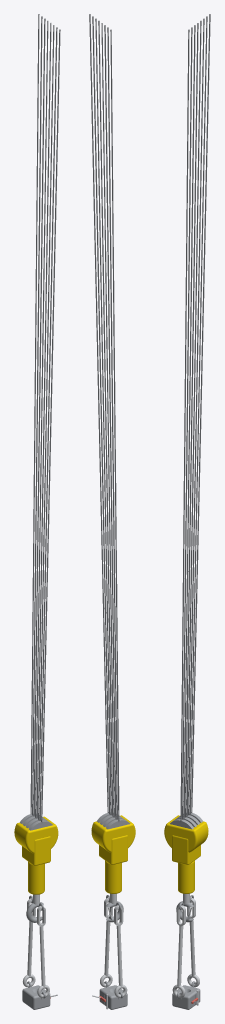
Rendered from sk575_aparejo.glb.
3 views of the same model, side by side, from view 1: azimuth 30°, elevation 25°; view 2: azimuth 210°, elevation 25°; view 3: azimuth 330°, elevation 25° (orthographic).
Parts seen in each view (by area): view 1: sk575_aparejo_cable, sk575_aparejo_amarillo, sk575_aparejo_acero_oscuro, sk575_aparejo_acero; view 2: sk575_aparejo_cable, sk575_aparejo_amarillo, sk575_aparejo_acero, sk575_aparejo_acero_oscuro; view 3: sk575_aparejo_cable, sk575_aparejo_amarillo, sk575_aparejo_acero, sk575_aparejo_acero_oscuro.
Boxes of the visible parts, bbox=[...] form: sk575_aparejo_cable: bbox=[30, 14, 60, 822]; sk575_aparejo_amarillo: bbox=[14, 816, 58, 894]; sk575_aparejo_acero_oscuro: bbox=[20, 814, 52, 1009]; sk575_aparejo_acero: bbox=[22, 894, 57, 997]; sk575_aparejo_cable: bbox=[89, 14, 119, 821]; sk575_aparejo_amarillo: bbox=[91, 815, 135, 893]; sk575_aparejo_acero: bbox=[92, 893, 127, 1009]; sk575_aparejo_acero_oscuro: bbox=[96, 812, 129, 1009]; sk575_aparejo_cable: bbox=[180, 14, 210, 821]; sk575_aparejo_amarillo: bbox=[164, 815, 208, 893]; sk575_aparejo_acero: bbox=[172, 893, 199, 1005]; sk575_aparejo_acero_oscuro: bbox=[170, 812, 203, 1009].
Bounding box in the file's own units: 0.7663 × 21.62 × 0.8663.
